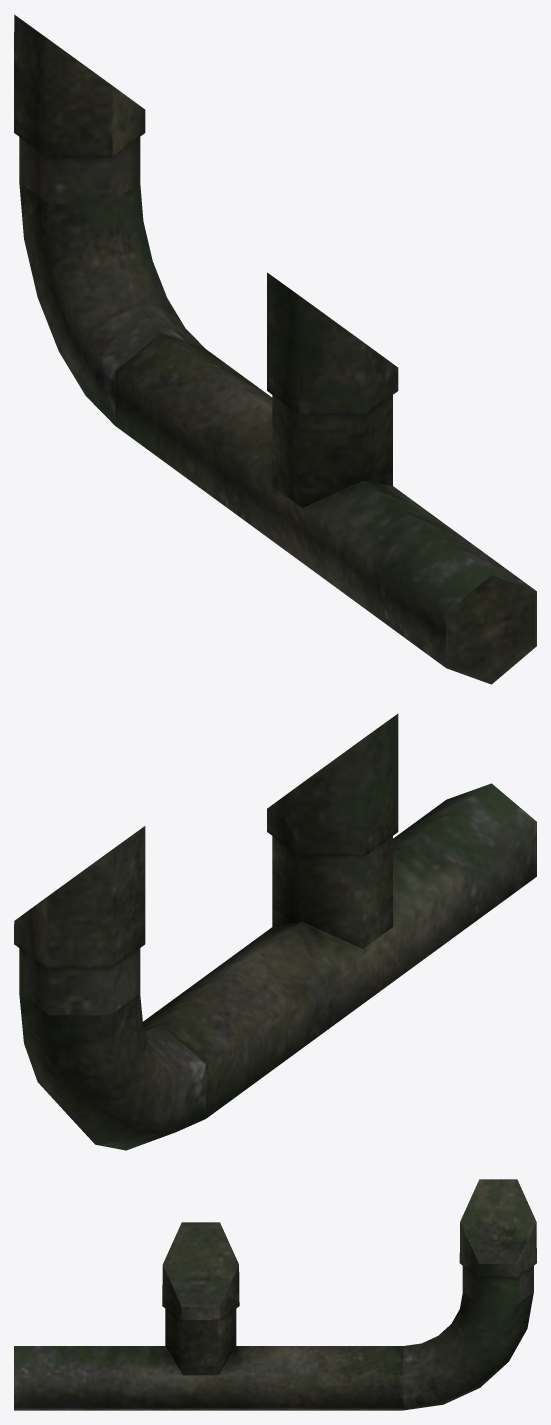
The model's file is MossyThick_HoriEnd.FBX.
3 renders of one model, top to bottom at view 1: azimuth 30°, elevation 25°; view 2: azimuth 150°, elevation 25°; view 3: azimuth 270°, elevation 25°, orthographic. The views are drawn at different scales.
Visible parts, largest first — view 1: MossyThick_HoriEnd; view 2: MossyThick_HoriEnd; view 3: MossyThick_HoriEnd.
Boxes of the visible parts, left/top/right/bottom form: MossyThick_HoriEnd: left=14, top=14, right=536, bottom=684; MossyThick_HoriEnd: left=14, top=713, right=536, bottom=1150; MossyThick_HoriEnd: left=14, top=1179, right=536, bottom=1410.
Bounding box in the file's own units: 22.59 × 80.79 × 177.
